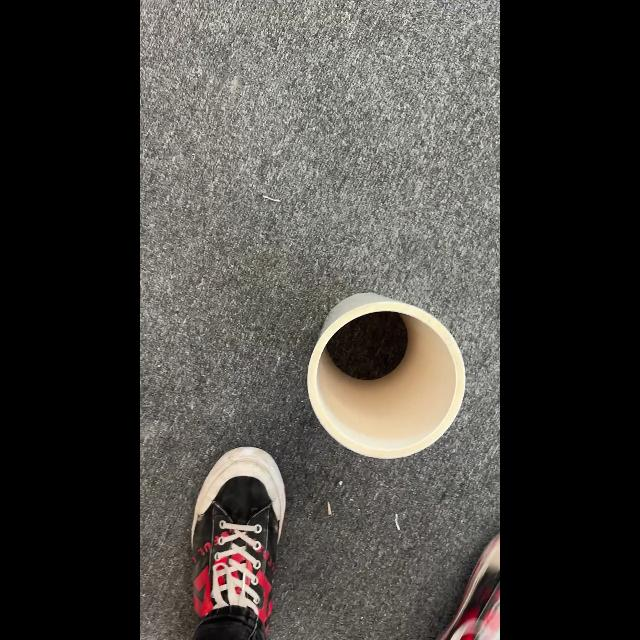CORAL: (306, 291, 466, 459)
